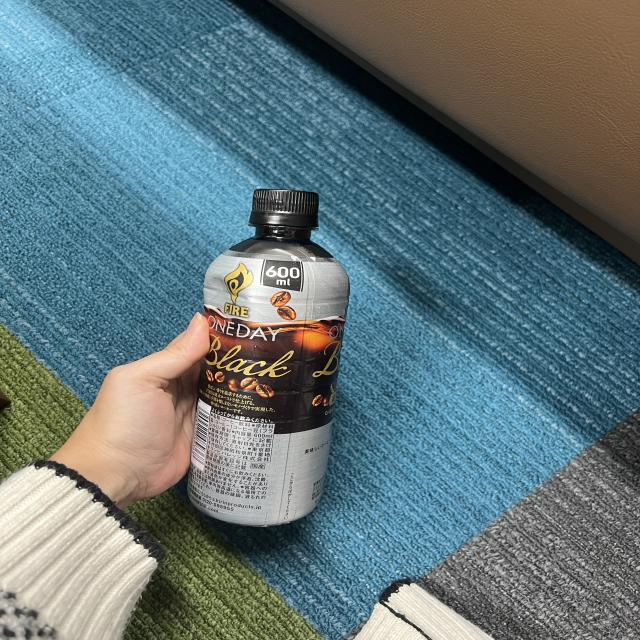coffee-black: (186, 182, 366, 533)
